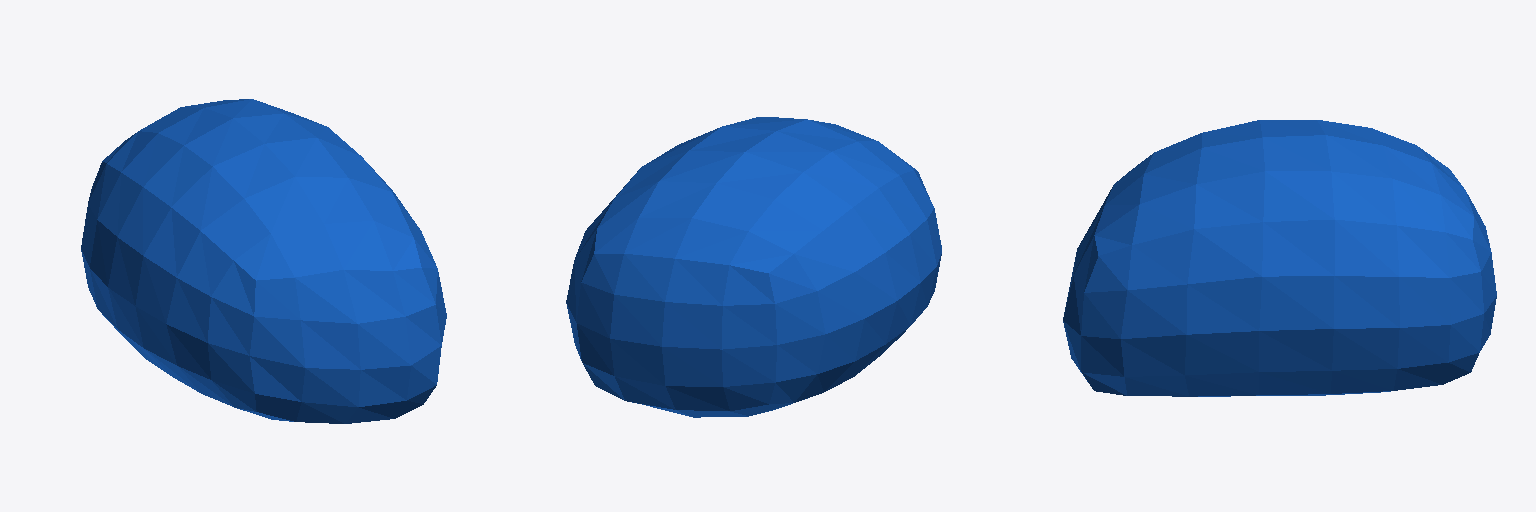
The model's file is DROPLET.mtl.obj.
The picture shows the model from 3 angles: view 1: azimuth 30°, elevation 25°; view 2: azimuth 150°, elevation 25°; view 3: azimuth 270°, elevation 25°; orthographic projection.
Parts seen in each view (by area): view 1: Cube.003; view 2: Cube.003; view 3: Cube.003.
Part boxes in pixels (x1,y1,x2,y2): Cube.003: (81, 99, 446, 423); Cube.003: (566, 117, 941, 417); Cube.003: (1063, 120, 1496, 396).
Size of the model in its own units: 0.1045 by 0.087 by 0.1415.